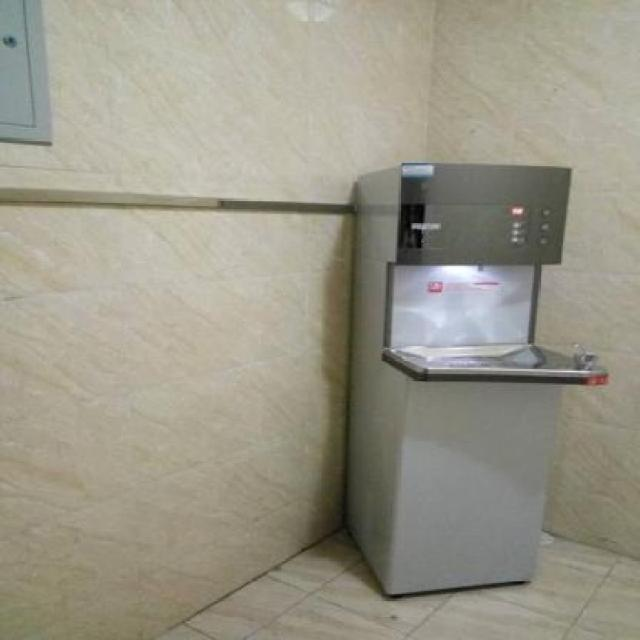cooler: (348, 158, 600, 600)
